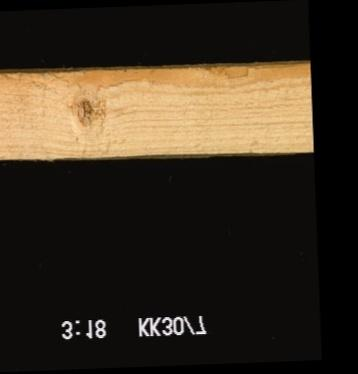sound_knot: (71, 95, 99, 131)
